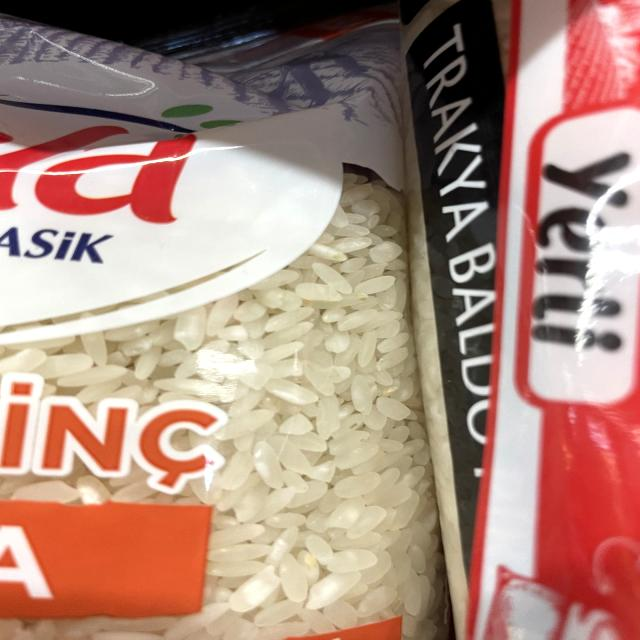rice: (229, 277, 422, 613)
